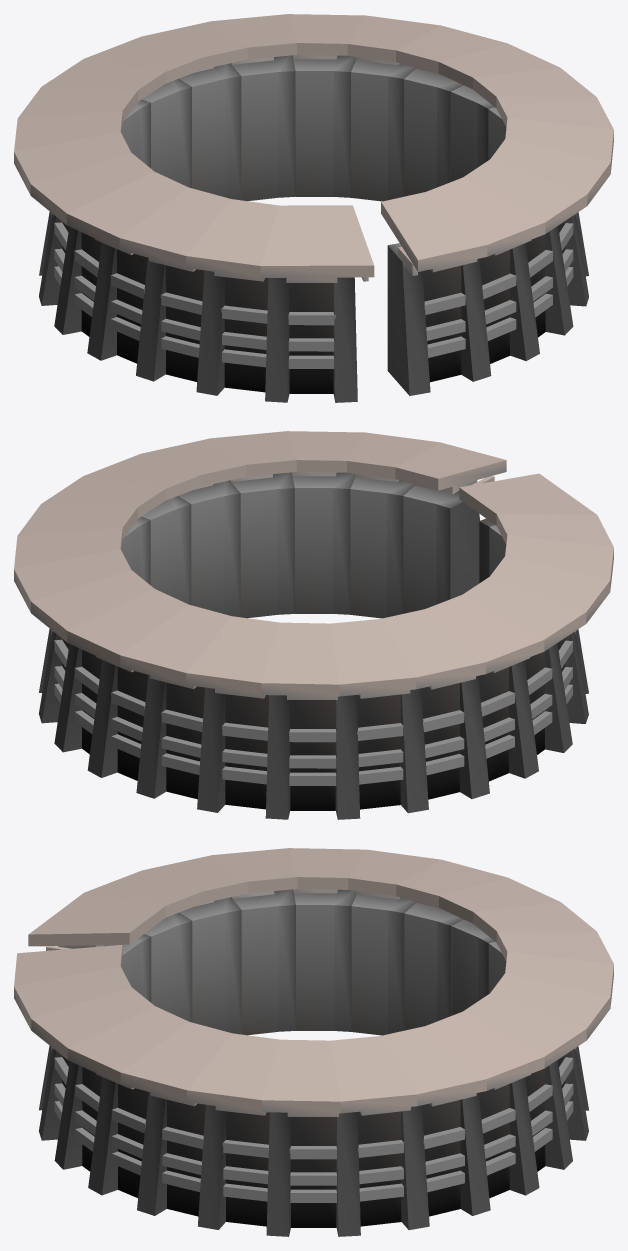
File: stadium.fbx
3 views of the same model, one above another, from view 1: azimuth 30°, elevation 25°; view 2: azimuth 150°, elevation 25°; view 3: azimuth 270°, elevation 25° (orthographic).
Visible parts, largest first — view 1: Cube; view 2: Cube; view 3: Cube.
Part boxes in pixels (x1,y1,x2,y2): Cube: [14, 14, 613, 402]; Cube: [14, 431, 613, 819]; Cube: [14, 848, 613, 1236].
Bounding box in the file's own units: 2831 × 842 × 2831.
